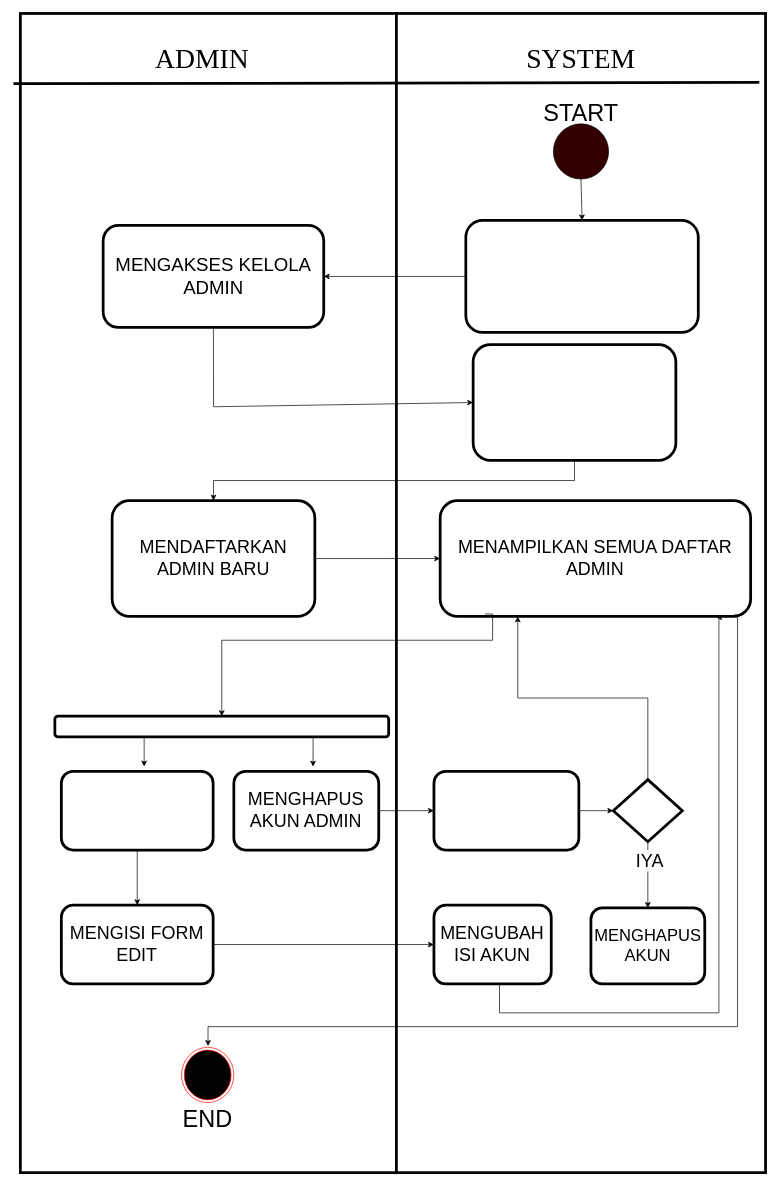
This 778x1185 diagram has some shape labels left out. The shapes that lost their labels are listed below. From the top down, each one's box as (x1, y1, x2, y2) in pixels, then its label:
(464, 219, 699, 333): MENAMPILKAN DASHBOARD DAN SIDE BAR ADMIN
(471, 343, 677, 461): MENAMPILKAN HALAMAN KELOLA ADMIN
(60, 770, 214, 851): MENGEDIT AKUN ADMIN
(432, 770, 580, 851): MENAMPILKAN ALERT UNTUK MENGHAPUS
